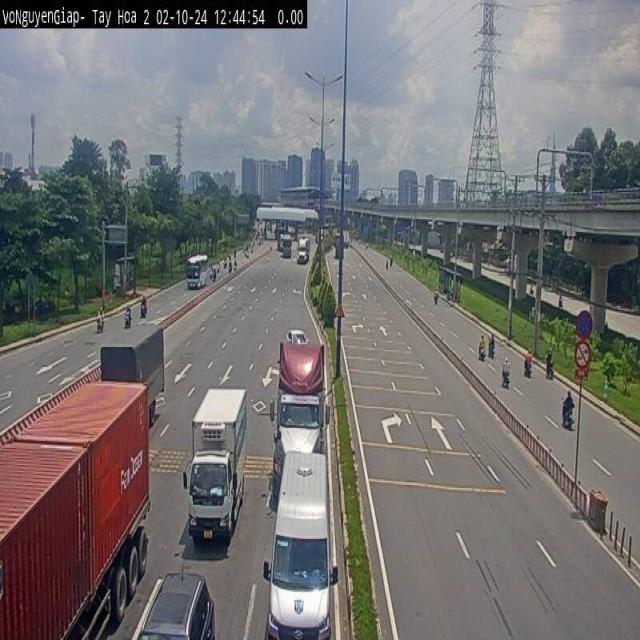bus: (186, 253, 207, 289)
car: (136, 569, 216, 638)
container-truck: (0, 378, 150, 638), (268, 340, 330, 509)
motorcycle: (554, 404, 582, 438), (476, 346, 494, 368), (522, 360, 538, 377), (548, 357, 558, 382), (500, 366, 511, 385)
person: (545, 336, 559, 375), (562, 388, 574, 429), (523, 340, 535, 369), (500, 355, 510, 387), (478, 334, 486, 360)
truck: (262, 451, 338, 638), (182, 386, 248, 546), (99, 323, 165, 427), (295, 232, 319, 280), (274, 214, 296, 264)
